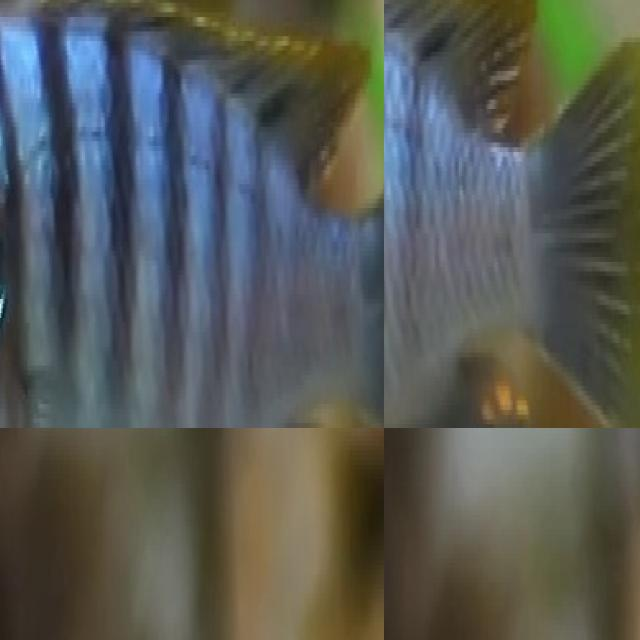fish: (0, 0, 384, 428), (384, 0, 640, 428)
